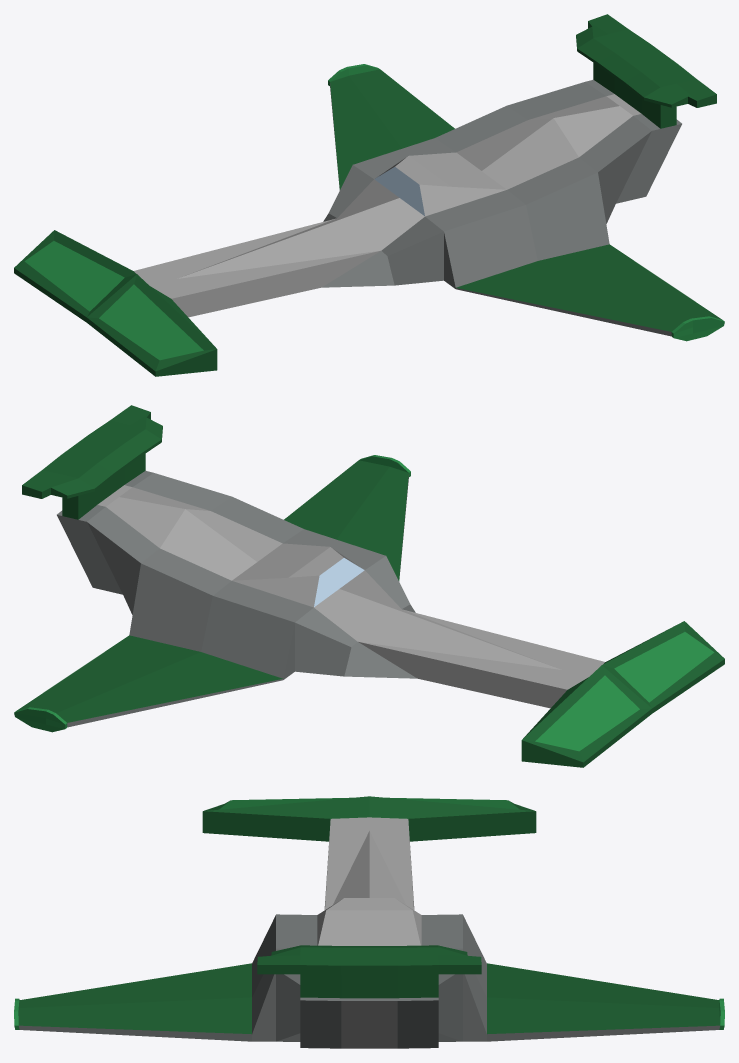
Rendered from VehicleBody.fbx.
The picture shows the model from 3 angles, top to bottom: view 1: azimuth 30°, elevation 25°; view 2: azimuth 150°, elevation 25°; view 3: azimuth 270°, elevation 25°; orthographic projection. The views are drawn at different scales.
Visible parts, largest first — view 1: Cube; view 2: Cube; view 3: Cube.
Boxes of the visible parts, x1,y1,x2,y2 form: Cube: (14, 14, 724, 376); Cube: (14, 405, 724, 767); Cube: (14, 796, 724, 1048).
Size of the model in its own units: 821 by 176 by 852.
